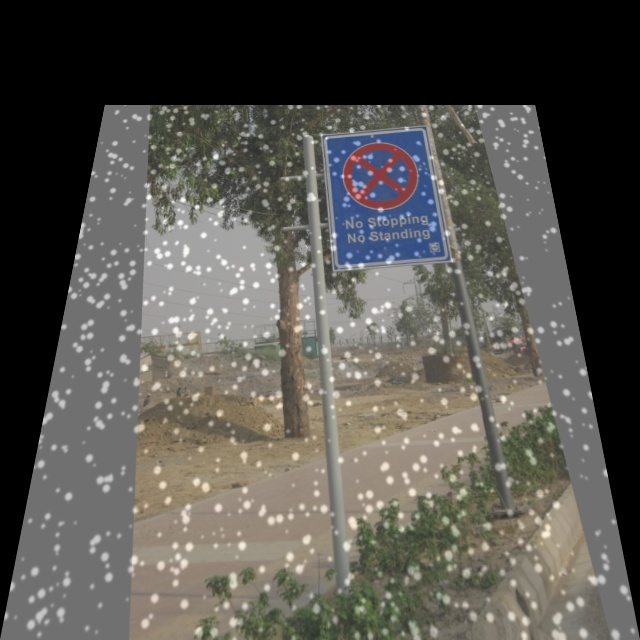No_Stopping_or_Standing: (331, 130, 429, 216)
